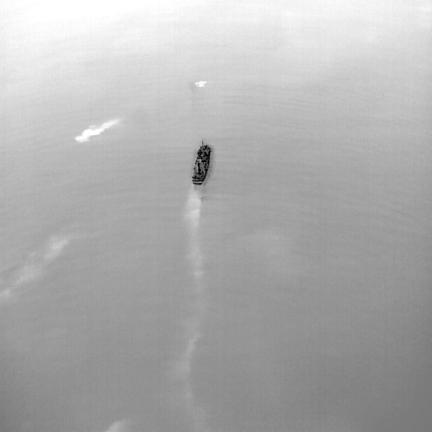flukeprints: (74, 119, 119, 142), (194, 81, 205, 86)
